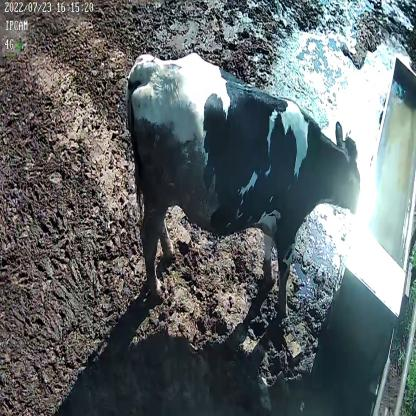cow: (124, 49, 362, 316)
